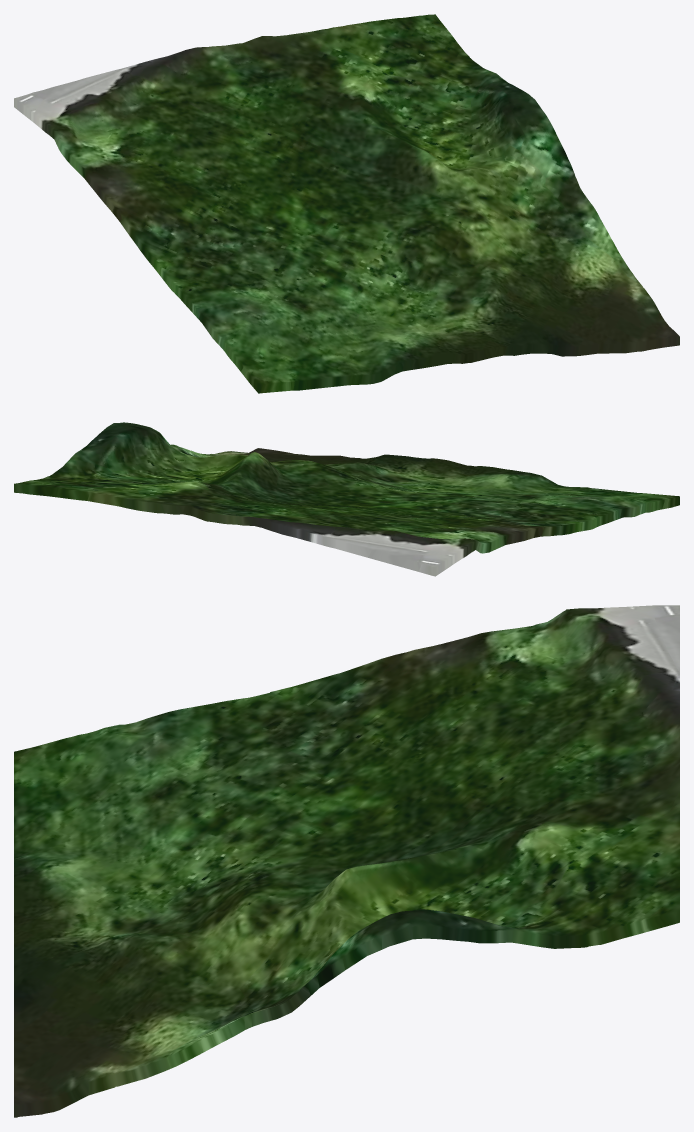
The model's file is z20-167564-405178-h0-yup-uvflip-v3-world.glb.
3 renders of one model, top to bottom at view 1: azimuth 30°, elevation 25°; view 2: azimuth 150°, elevation 25°; view 3: azimuth 270°, elevation 25°, orthographic. The views are drawn at different scales.
Bounding box in the file's own units: 30.16 × 12.12 × 30.32.
1 material, 1 textured.
